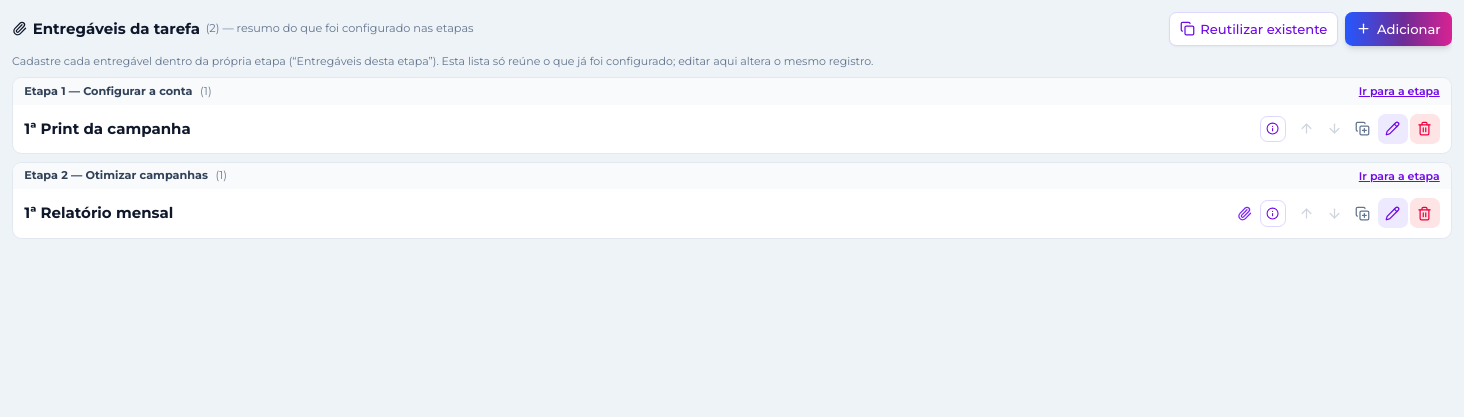
Test: Entregáveis da tarefa · resumo derivado das etapas › agrupa pela etapa responsável (número + nome) e mostra tipo, recorrência, responsável, momento, obrigatoriedade, aprovação e visibilidade
// uma linha só por entregável: os detalhes vão no tooltip do ícone de info
Focus the button named "Informações do entregável Relatório mensal" at (1273, 213), box [1260, 200, 1286, 227]
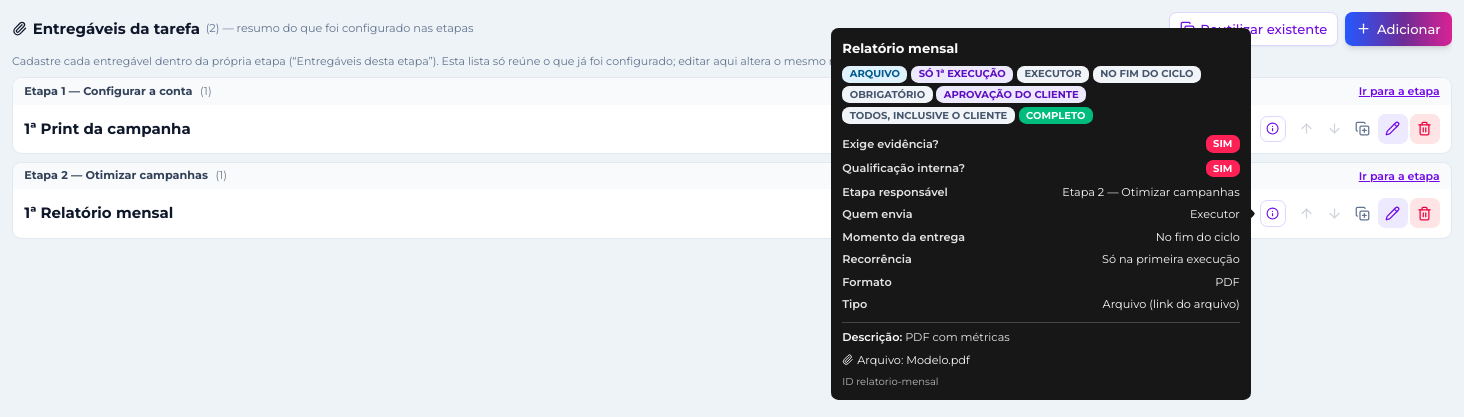
Expected: the element with test id "deliverable-chips" shows "Arquivo", [850, 67, 900, 80]
Expected: the element with test id "deliverable-chips" shows "só 1ª execução", [919, 67, 1006, 80]
Expected: the element with test id "deliverable-chips" shows "Executor", [1024, 67, 1082, 80]
